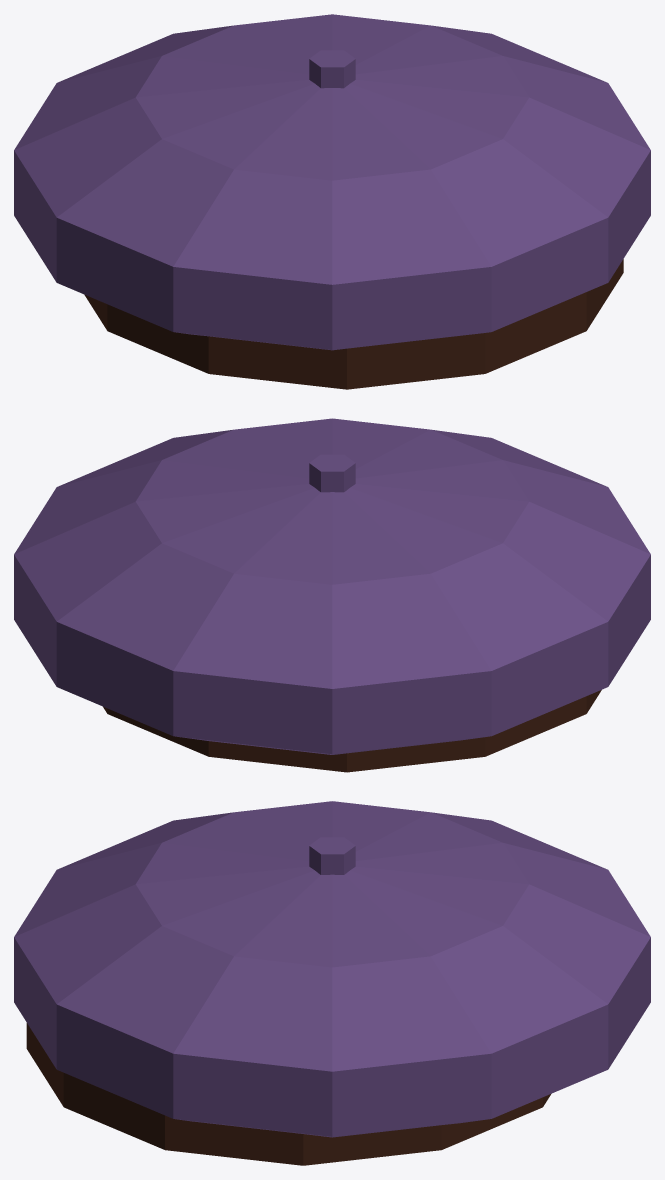
File: beret.glb
3 renders of one model, top to bottom at view 1: azimuth 30°, elevation 25°; view 2: azimuth 150°, elevation 25°; view 3: azimuth 270°, elevation 25°, orthographic.
Visible parts, largest first — view 1: Crown_mesh; view 2: Crown_mesh; view 3: Crown_mesh.
Part boxes in pixels (box(x1,y1,x2,y2)): Crown_mesh: box(14, 14, 650, 389); Crown_mesh: box(14, 418, 650, 772); Crown_mesh: box(14, 801, 650, 1165).
Bounding box in the file's own units: 0.2187 × 0.087 × 0.2187.
